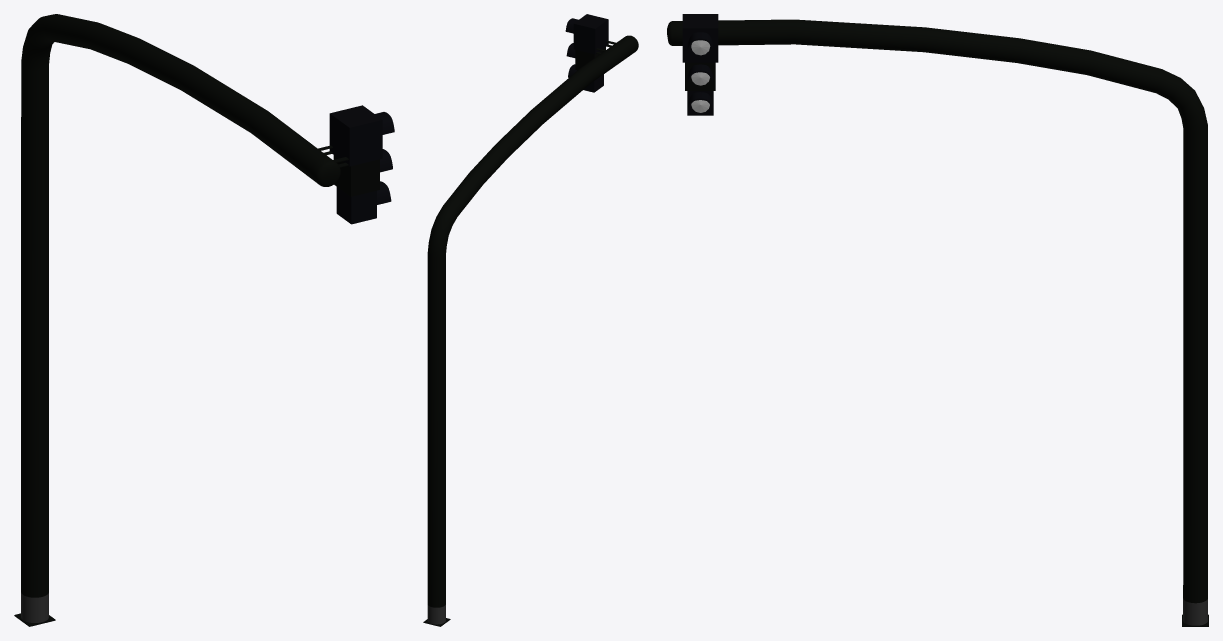
File: semaforo 1.fbx
The picture shows the model from 3 angles, left to right: view 1: azimuth 30°, elevation 25°; view 2: azimuth 150°, elevation 25°; view 3: azimuth 270°, elevation 25°; orthographic projection. The views are drawn at different scales.
Parts seen in each view (by area): view 1: Main; view 2: Main; view 3: Main.
Boxes of the visible parts, x1=… form: Main: x1=14, y1=14, x2=394, y2=626; Main: x1=423, y1=14, x2=638, y2=626; Main: x1=667, y1=14, x2=1208, y2=626.
Bounding box in the file's own units: 57.31 × 429 × 341.
5 materials, 5 textured.
